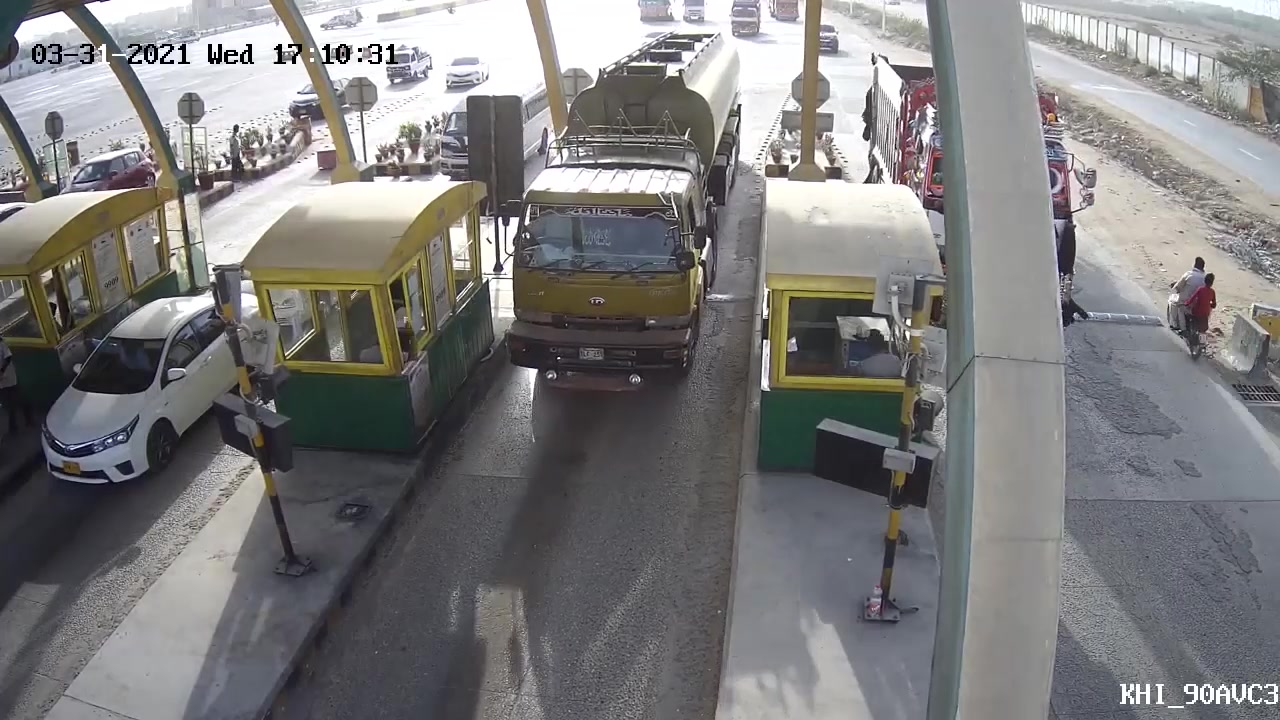F6: (503, 21, 746, 398)
